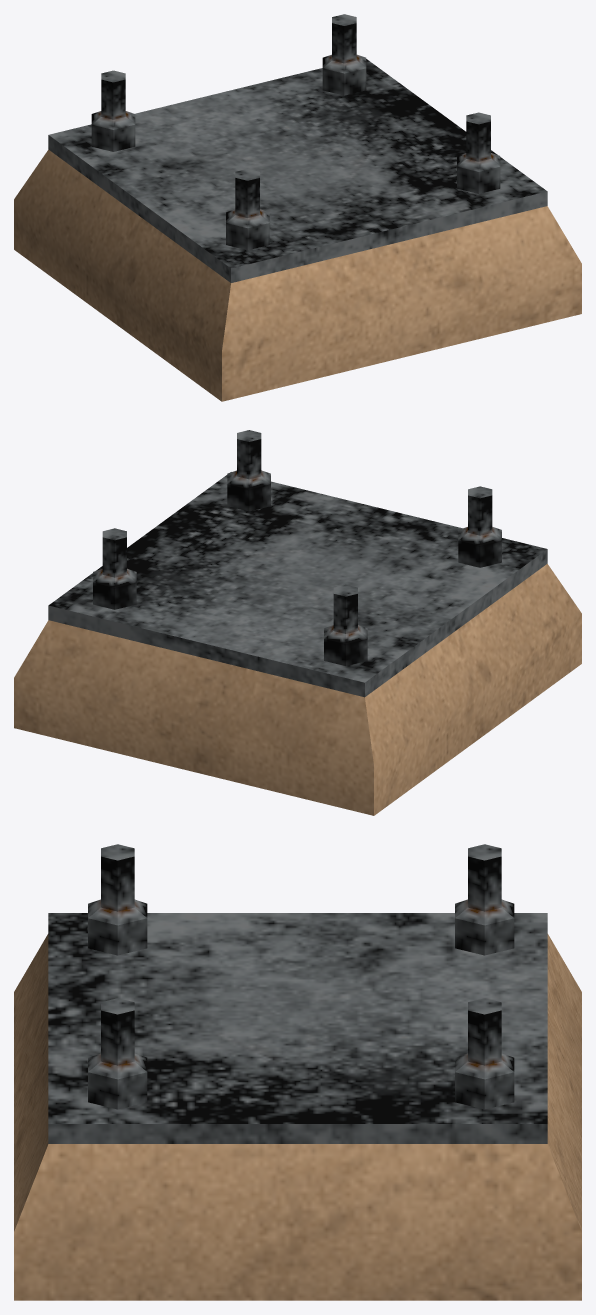
The model's file is SM_plate_decoration_01.fbx.
The picture shows the model from 3 angles, top to bottom: view 1: azimuth 30°, elevation 25°; view 2: azimuth 150°, elevation 25°; view 3: azimuth 270°, elevation 25°; orthographic projection. The views are drawn at different scales.
Visible parts, largest first — view 1: SM_plate_decoration_01; view 2: SM_plate_decoration_01; view 3: SM_plate_decoration_01.
Boxes of the visible parts, <box> form: SM_plate_decoration_01: <box>14,14,581,401</box>; SM_plate_decoration_01: <box>14,430,581,815</box>; SM_plate_decoration_01: <box>14,844,581,1300</box>.
Size of the model in its own units: 150 by 73.11 by 150.
